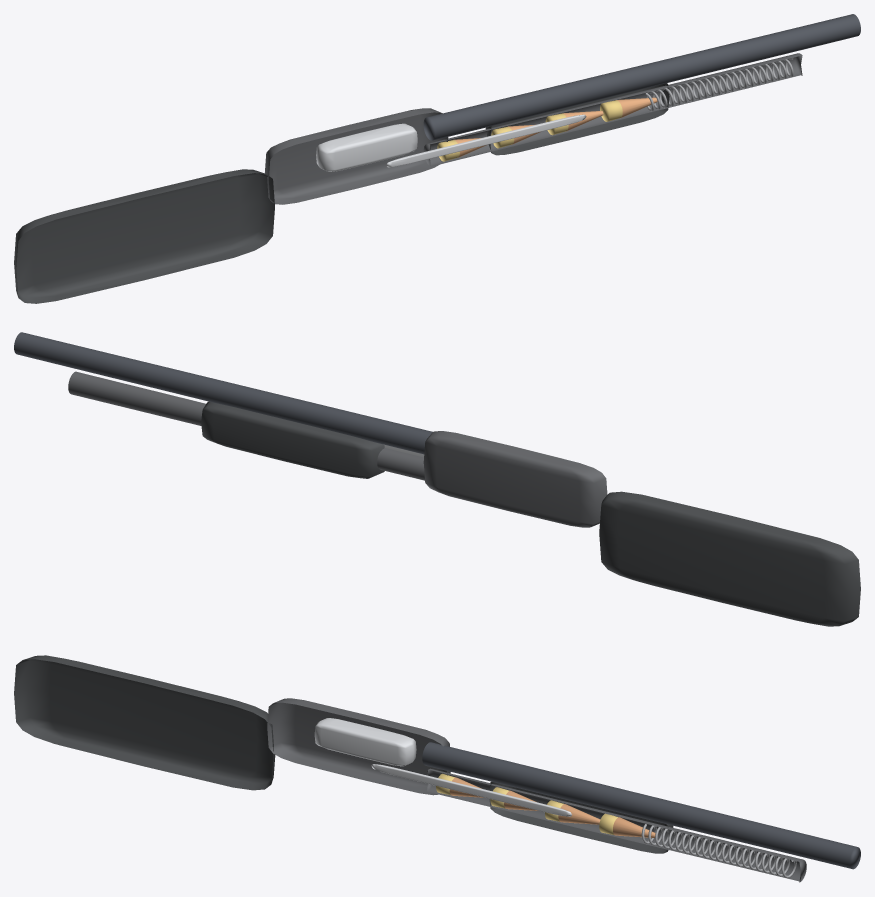
File: fort500-cut.glb
The picture shows the model from 3 angles, top to bottom: view 1: azimuth 30°, elevation 25°; view 2: azimuth 150°, elevation 25°; view 3: azimuth 330°, elevation 25°; orthographic projection.
Parts seen in each view (by area): view 1: stock_tactical, barrel_510mm, receiver_12ga, mag_tube_12ga, bolt_12ga, mag_spring, pump_forend, action_bars; view 2: stock_tactical, receiver_12ga, barrel_510mm, pump_forend, mag_tube_12ga; view 3: stock_tactical, barrel_510mm, receiver_12ga, mag_tube_12ga, bolt_12ga, mag_spring, pump_forend, action_bars, shell_hull_3, shell_hull_2.
Part boxes in pixels (x1=…): stock_tactical: x1=14, y1=169, x2=274, y2=303; barrel_510mm: x1=423, y1=14, x2=860, y2=140; receiver_12ga: x1=265, y1=108, x2=448, y2=204; mag_tube_12ga: x1=423, y1=53, x2=802, y2=166; bolt_12ga: x1=316, y1=123, x2=417, y2=171; mag_spring: x1=645, y1=57, x2=793, y2=111; pump_forend: x1=485, y1=83, x2=669, y2=155; action_bars: x1=386, y1=114, x2=586, y2=167; stock_tactical: x1=599, y1=491, x2=860, y2=626; receiver_12ga: x1=423, y1=431, x2=607, y2=527; barrel_510mm: x1=14, y1=332, x2=432, y2=454; pump_forend: x1=201, y1=401, x2=384, y2=478; mag_tube_12ga: x1=68, y1=371, x2=424, y2=480; stock_tactical: x1=14, y1=655, x2=275, y2=790; barrel_510mm: x1=422, y1=742, x2=860, y2=869; receiver_12ga: x1=267, y1=698, x2=450, y2=795; mag_tube_12ga: x1=427, y1=768, x2=806, y2=882; bolt_12ga: x1=314, y1=718, x2=416, y2=766; mag_spring: x1=641, y1=824, x2=796, y2=878; pump_forend: x1=489, y1=781, x2=673, y2=853; action_bars: x1=371, y1=764, x2=571, y2=816; shell_hull_3: x1=613, y1=817, x2=655, y2=837; shell_hull_2: x1=558, y1=804, x2=600, y2=824.
Bounding box in the file's own units: 1 × 0.1135 × 0.039.
